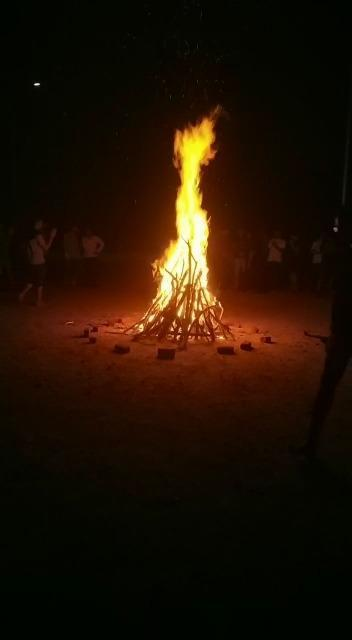fire: (142, 96, 233, 329)
